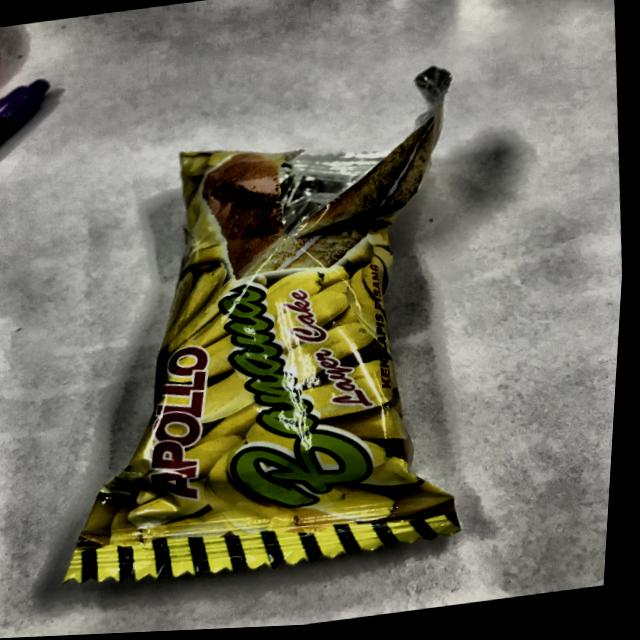Plastic: (46, 72, 489, 581)
